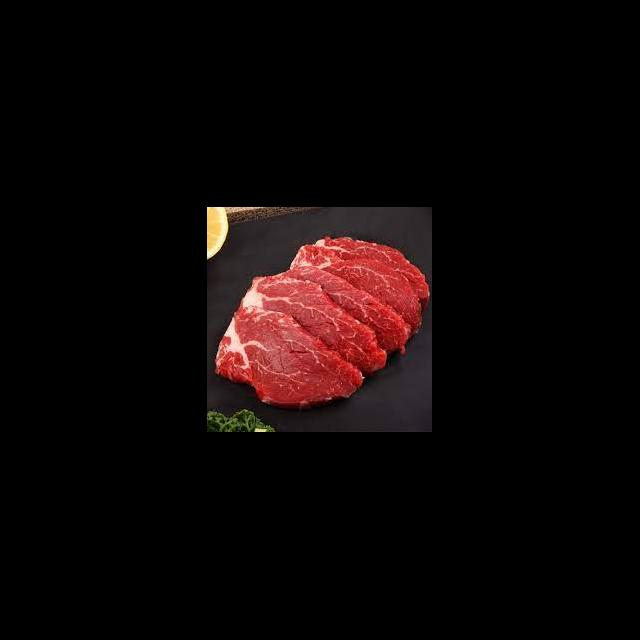beef: (219, 237, 430, 403)
